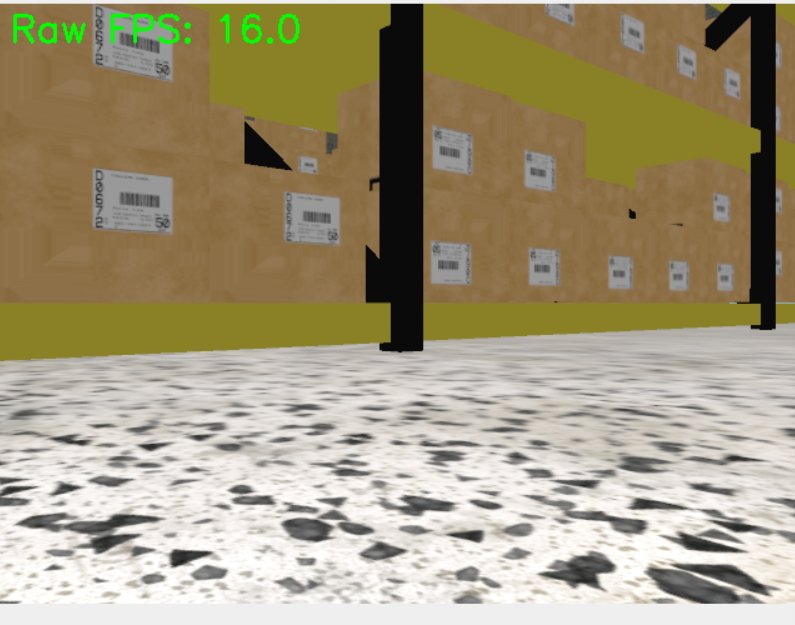barcode: (90, 165, 175, 235), (284, 190, 342, 247), (431, 124, 473, 176), (430, 239, 473, 287), (522, 148, 557, 194), (527, 247, 561, 286), (621, 13, 646, 54), (607, 254, 634, 290), (676, 44, 698, 81), (667, 258, 689, 293), (711, 190, 730, 223), (724, 66, 742, 100), (715, 263, 735, 293)
